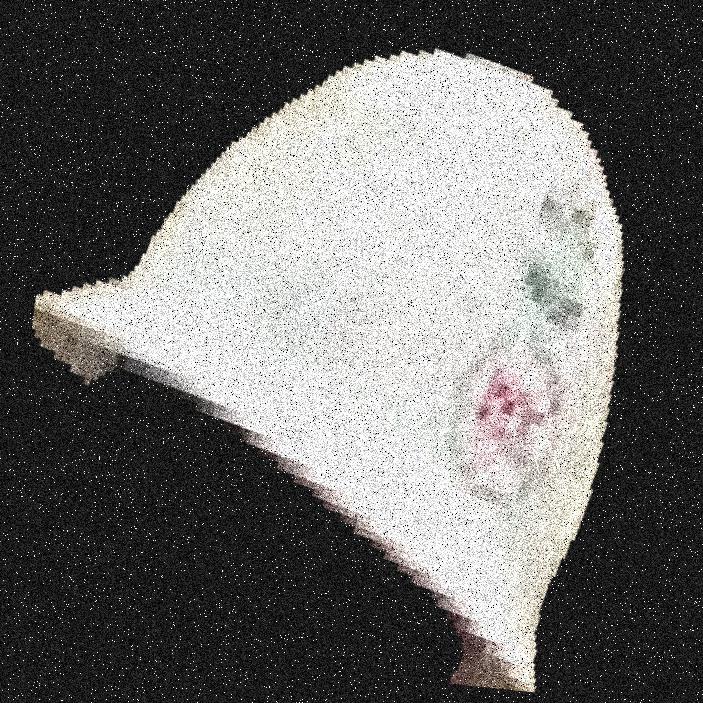Capacete: (310, 0, 602, 702)
